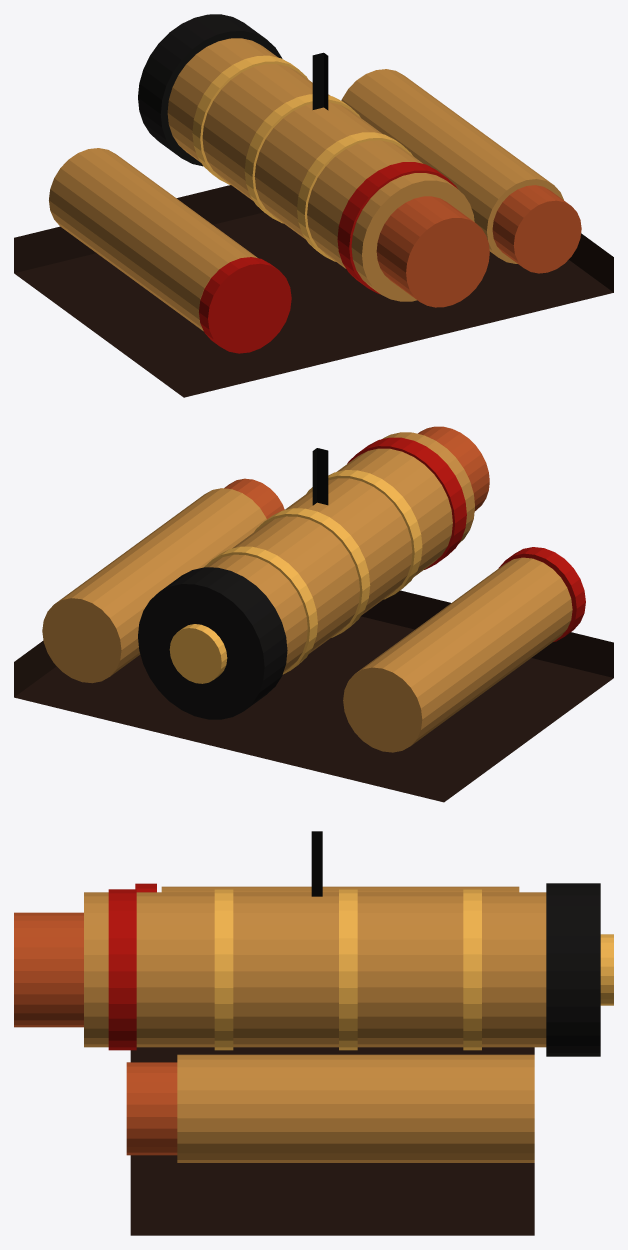
The model's file is WPB_006_AmmoCartridgeCase_Staged.obj.
3 views of the same model, one above another, from view 1: azimuth 30°, elevation 25°; view 2: azimuth 150°, elevation 25°; view 3: azimuth 270°, elevation 25° (orthographic). The views are drawn at different scales.
Parts seen in each view (by area): view 1: ammo_staging_cradle, ammo_main_brass_case, ammo_side_cartridge_a, ammo_side_cartridge_b, ammo_pressure_neck_copper, ammo_side_cartridge_a_red_seal, ammo_side_cartridge_b_copper_tip, ammo_blackened_base_cap, ammo_red_seal_ring, ammo_case_crimp_band_0p110, ammo_case_crimp_band_0p270, ammo_case_crimp_band_0p190 (+1 smaller); view 2: ammo_staging_cradle, ammo_main_brass_case, ammo_side_cartridge_a, ammo_side_cartridge_b, ammo_blackened_base_cap, ammo_polished_primer, ammo_red_seal_ring, ammo_pressure_neck_copper, ammo_case_crimp_band_0p190, ammo_case_crimp_band_0p110, ammo_case_crimp_band_0p270, ammo_side_cartridge_a_red_seal (+2 smaller); view 3: ammo_main_brass_case, ammo_side_cartridge_b, ammo_staging_cradle, ammo_blackened_base_cap, ammo_pressure_neck_copper, ammo_side_cartridge_b_copper_tip, ammo_red_seal_ring, ammo_case_crimp_band_0p270, ammo_case_crimp_band_0p110, ammo_case_crimp_band_0p190, ammo_side_cartridge_a, ammo_polished_primer (+1 smaller).
Boxes of the visible parts, bbox=[...] form: ammo_staging_cradle: bbox=[14, 185, 613, 397]; ammo_main_brass_case: bbox=[167, 38, 474, 301]; ammo_side_cartridge_a: bbox=[49, 148, 257, 331]; ammo_side_cartridge_b: bbox=[341, 69, 563, 263]; ammo_pressure_neck_copper: bbox=[376, 196, 489, 307]; ammo_side_cartridge_a_red_seal: bbox=[199, 257, 291, 353]; ammo_side_cartridge_b_copper_tip: bbox=[492, 185, 581, 273]; ammo_blackened_base_cap: bbox=[138, 14, 282, 166]; ammo_red_seal_ring: bbox=[337, 162, 457, 294]; ammo_case_crimp_band_0p110: bbox=[192, 55, 308, 184]; ammo_case_crimp_band_0p270: bbox=[297, 132, 412, 261]; ammo_case_crimp_band_0p190: bbox=[244, 94, 360, 223]; ammo_staging_cradle: bbox=[14, 590, 613, 802]; ammo_main_brass_case: bbox=[206, 432, 474, 672]; ammo_side_cartridge_a: bbox=[343, 557, 572, 752]; ammo_side_cartridge_b: bbox=[42, 488, 266, 683]; ammo_blackened_base_cap: bbox=[138, 567, 287, 719]; ammo_polished_primer: bbox=[169, 624, 227, 683]; ammo_red_seal_ring: bbox=[347, 437, 466, 569]; ammo_pressure_neck_copper: bbox=[418, 426, 489, 511]; ammo_case_crimp_band_0p190: bbox=[254, 508, 370, 637]; ammo_case_crimp_band_0p110: bbox=[204, 546, 317, 674]; ammo_case_crimp_band_0p270: bbox=[306, 470, 422, 599]; ammo_side_cartridge_a_red_seal: bbox=[498, 547, 585, 641]; ammo_main_brass_case: bbox=[84, 892, 546, 1047]; ammo_side_cartridge_b: bbox=[177, 1054, 534, 1162]; ammo_staging_cradle: bbox=[130, 1047, 534, 1235]; ammo_blackened_base_cap: bbox=[546, 883, 600, 1056]; ammo_pressure_neck_copper: bbox=[14, 912, 83, 1027]; ammo_side_cartridge_b_copper_tip: bbox=[126, 1062, 177, 1155]; ammo_red_seal_ring: bbox=[108, 889, 136, 1050]; ammo_case_crimp_band_0p270: bbox=[214, 889, 233, 1050]; ammo_case_crimp_band_0p110: bbox=[463, 889, 481, 1050]; ammo_case_crimp_band_0p190: bbox=[339, 889, 357, 1050]; ammo_side_cartridge_a: bbox=[161, 886, 519, 892]; ammo_polished_primer: bbox=[600, 934, 613, 1005].
Size of the model in its own units: 0.38 by 0.196 by 0.386.
